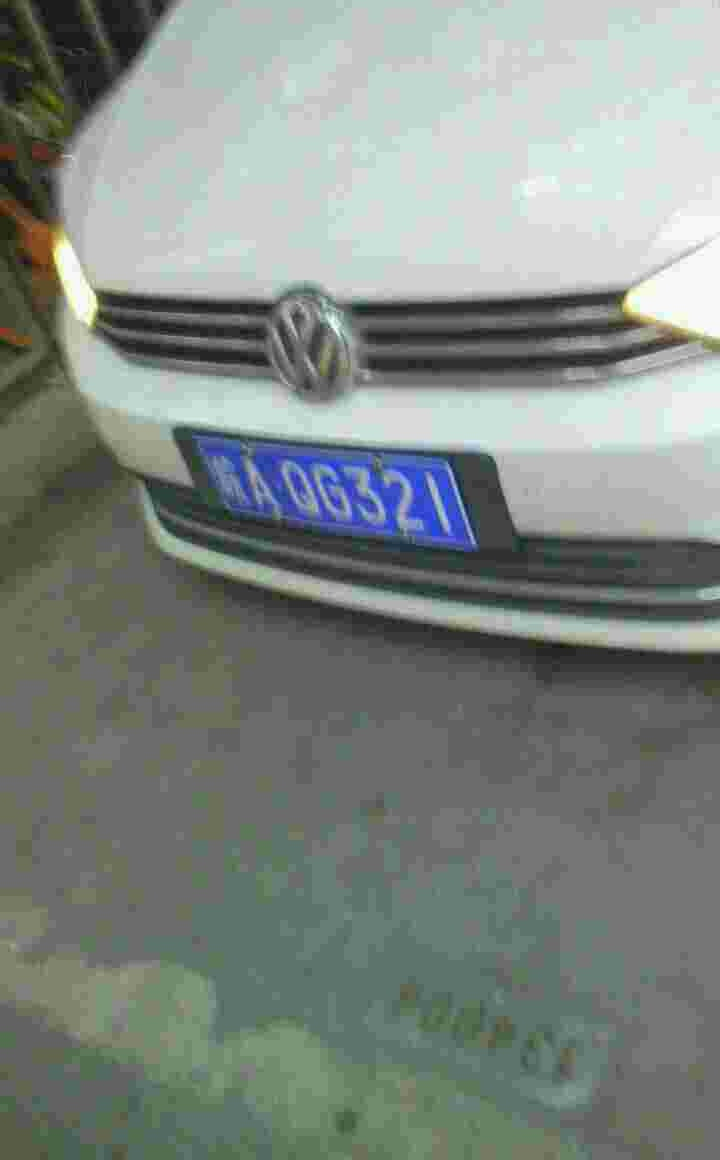license_plate: (188, 430, 467, 553)
